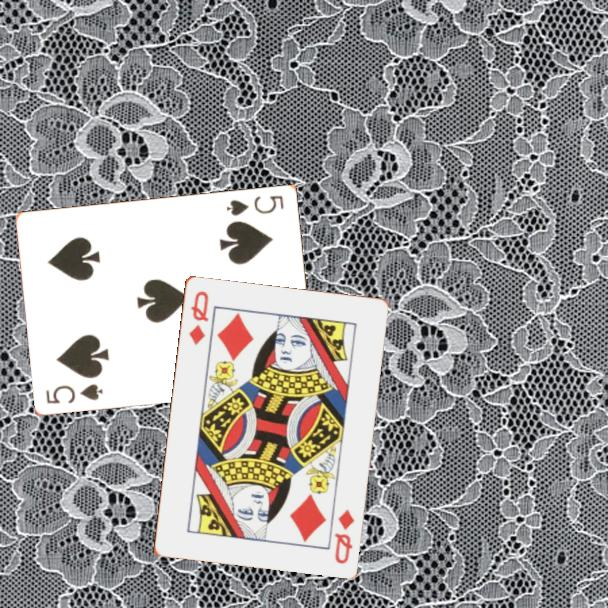d12: (185, 287, 211, 348), (331, 505, 357, 566)
s05: (223, 191, 287, 218), (43, 380, 106, 406)
